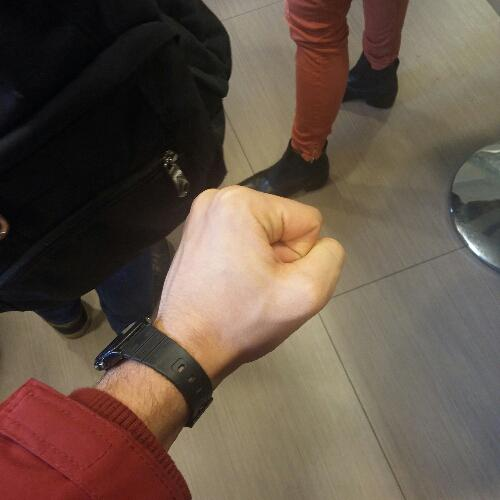rock: (146, 178, 349, 396)
